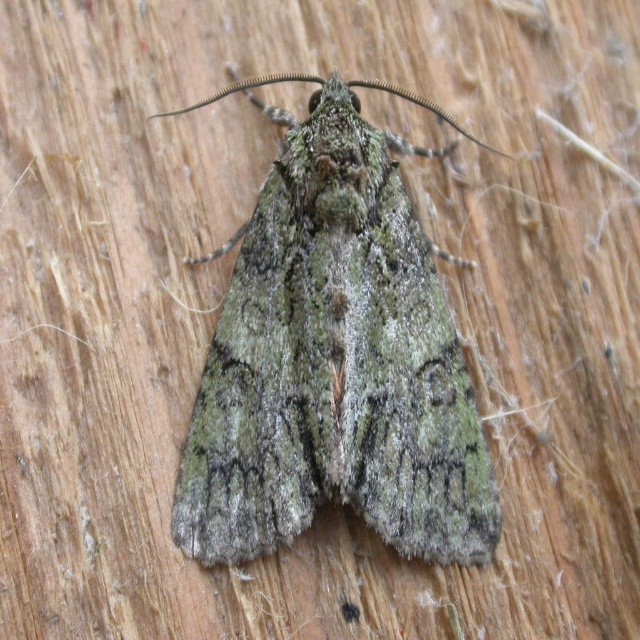Moths and butterflies: (144, 63, 518, 572)
